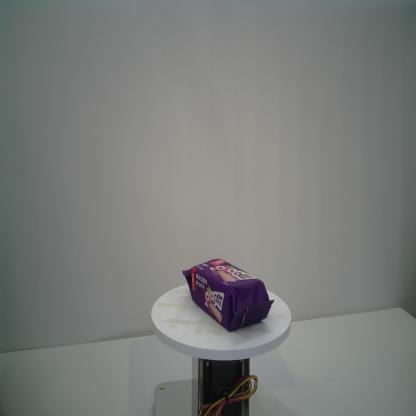Dessert: (181, 257, 276, 334)
